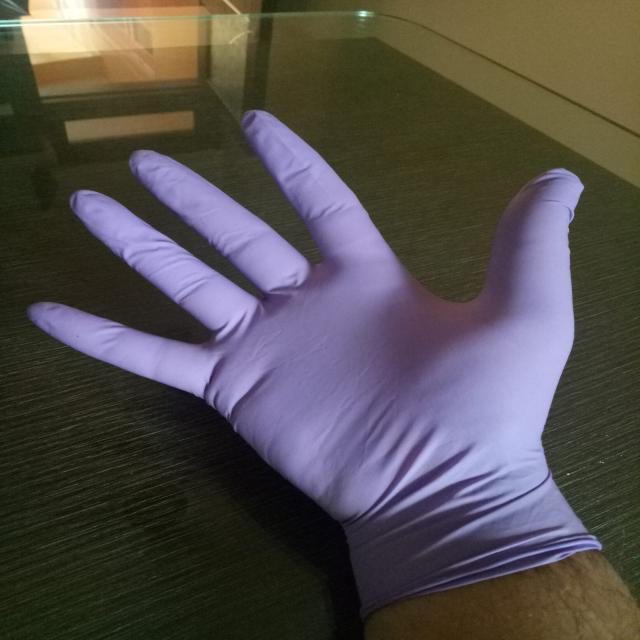gloved_hand: (24, 97, 608, 620)
